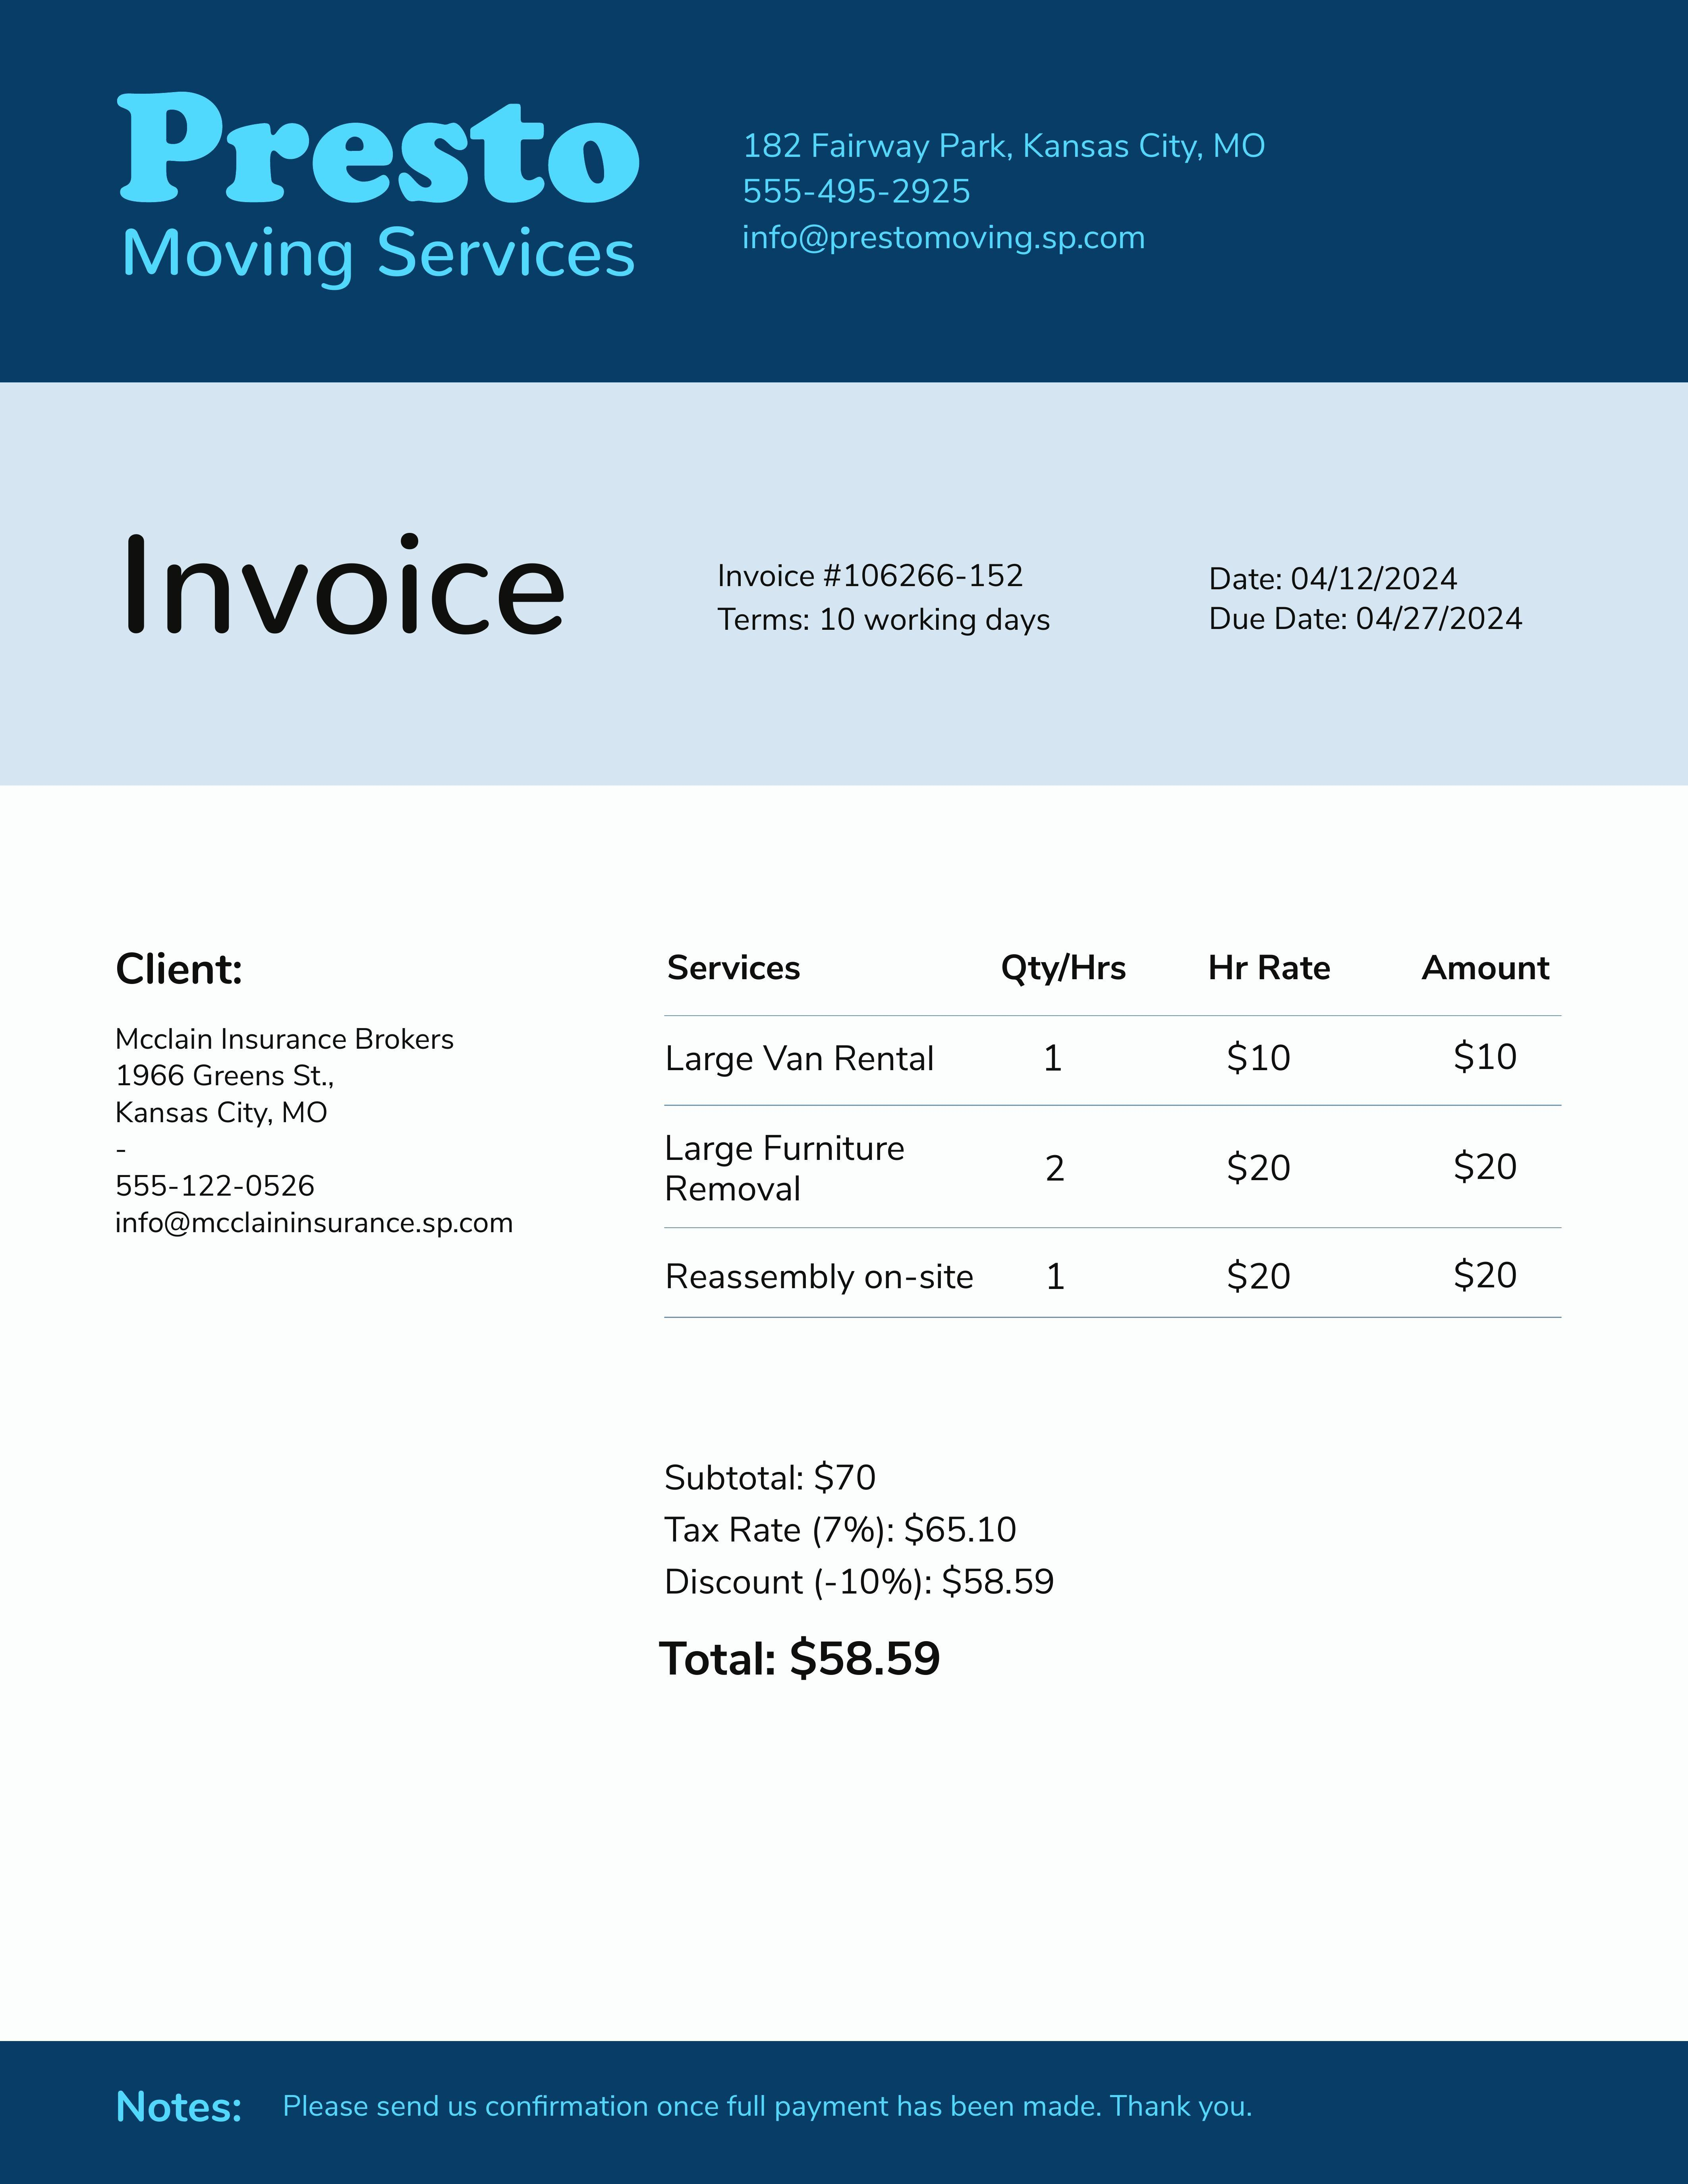ROI: (653, 948, 1585, 1322), (108, 67, 1287, 296), (98, 934, 550, 1267), (651, 1457, 1060, 1698), (688, 532, 1541, 643), (96, 2065, 1280, 2138)
